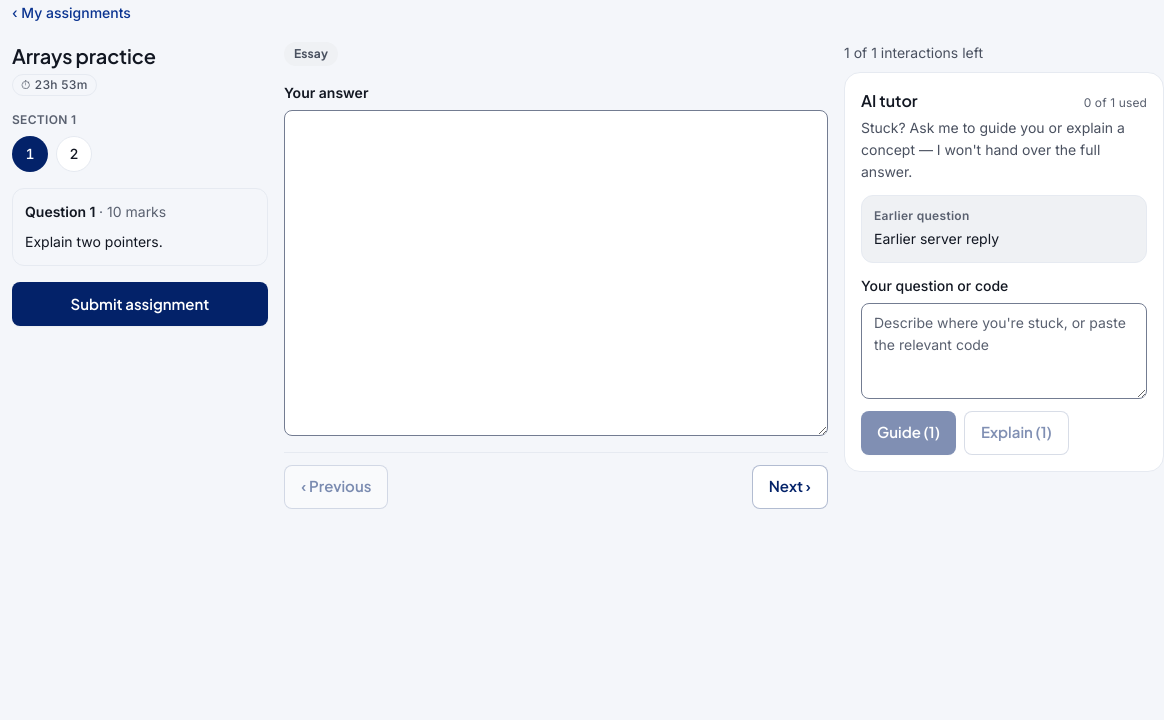
Test: StructuredAssignment workspace › tracks the tutor allowance and disables asking at 0
Expected: the text with test id "tutor-left" reads "1 of 1 interactions left", [844,44,983,61]
Expected: the text "Earlier server reply" is shown, [874,230,999,247]
Type "How do I start?" into the text box labelled "Your question or code".
click(1004, 351); type("How do I start?")  # box [861,303,1147,399]
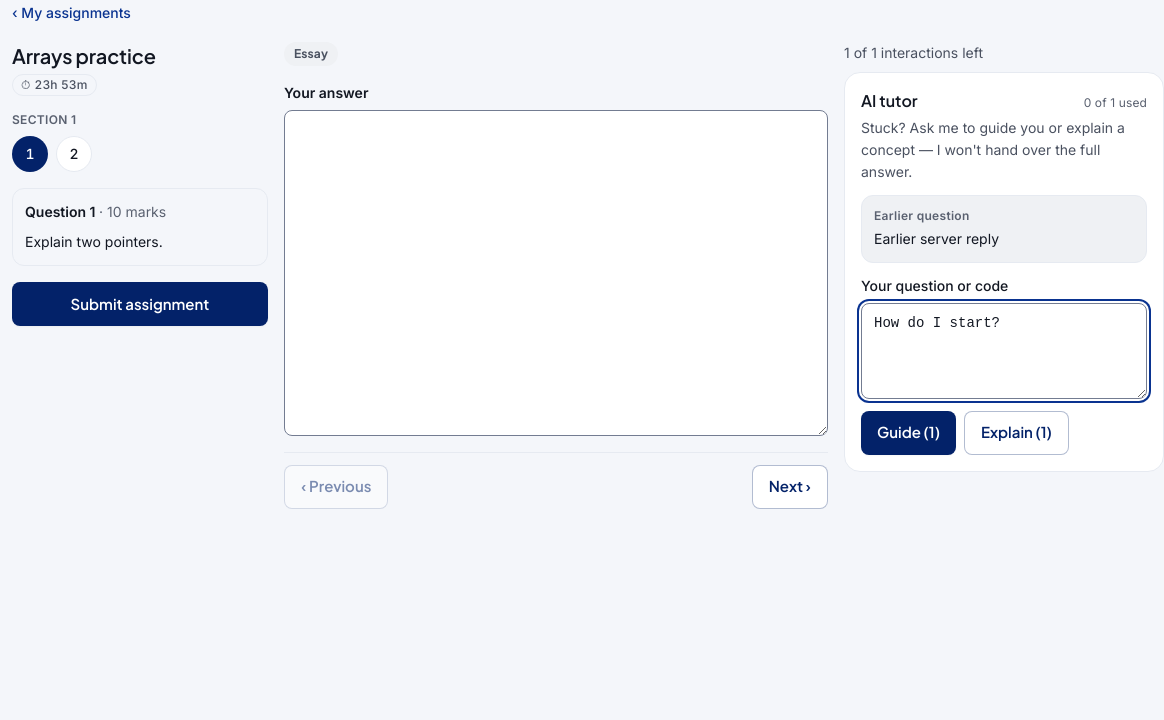
Click the button "Guide (1)".
click(908, 433)  # box [861,411,956,455]
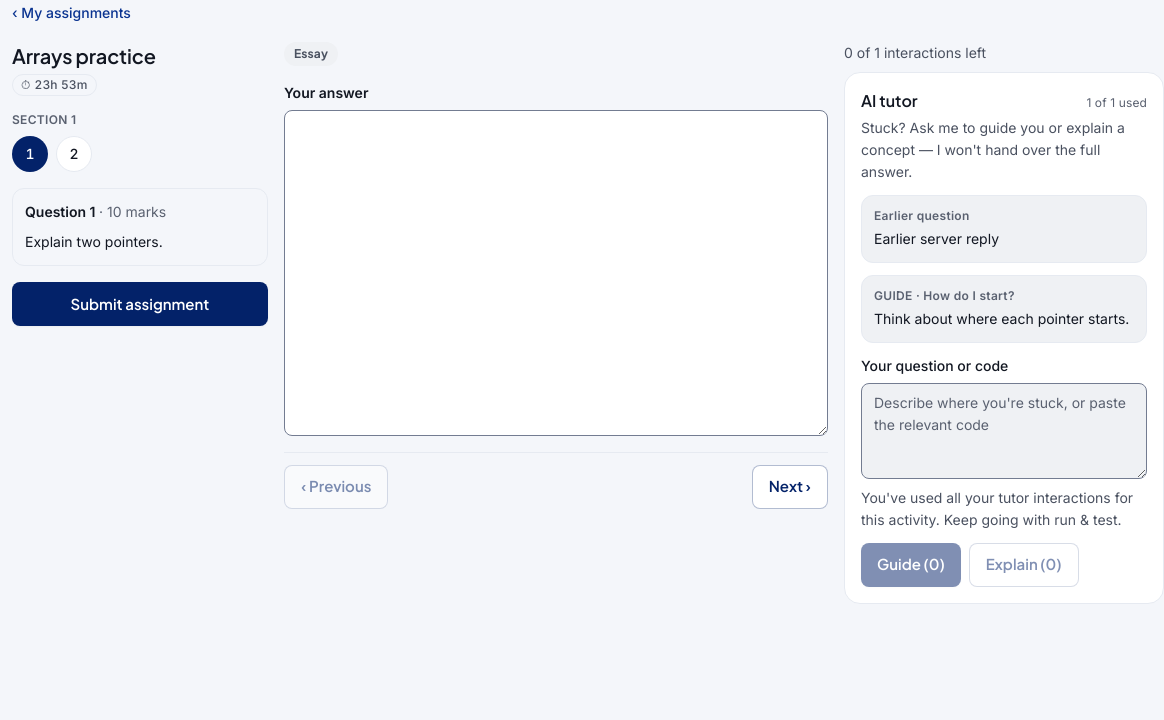
Now the text "Think about where each pointer starts." is shown, box [874,308,1134,330]
Now the text with test id "tutor-left" reads "0 of 1 interactions left", box [844,44,986,61]
Now the button "Guide (0)" is disabled, box [861,543,961,587]
